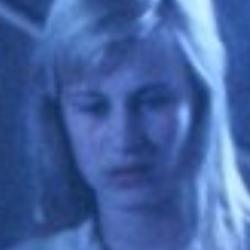face: (15, 1, 240, 228)
